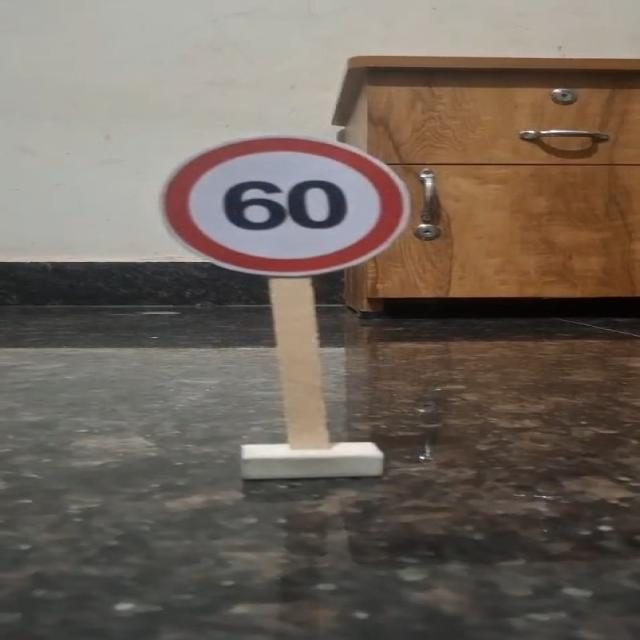Speed60: (158, 131, 414, 280)
